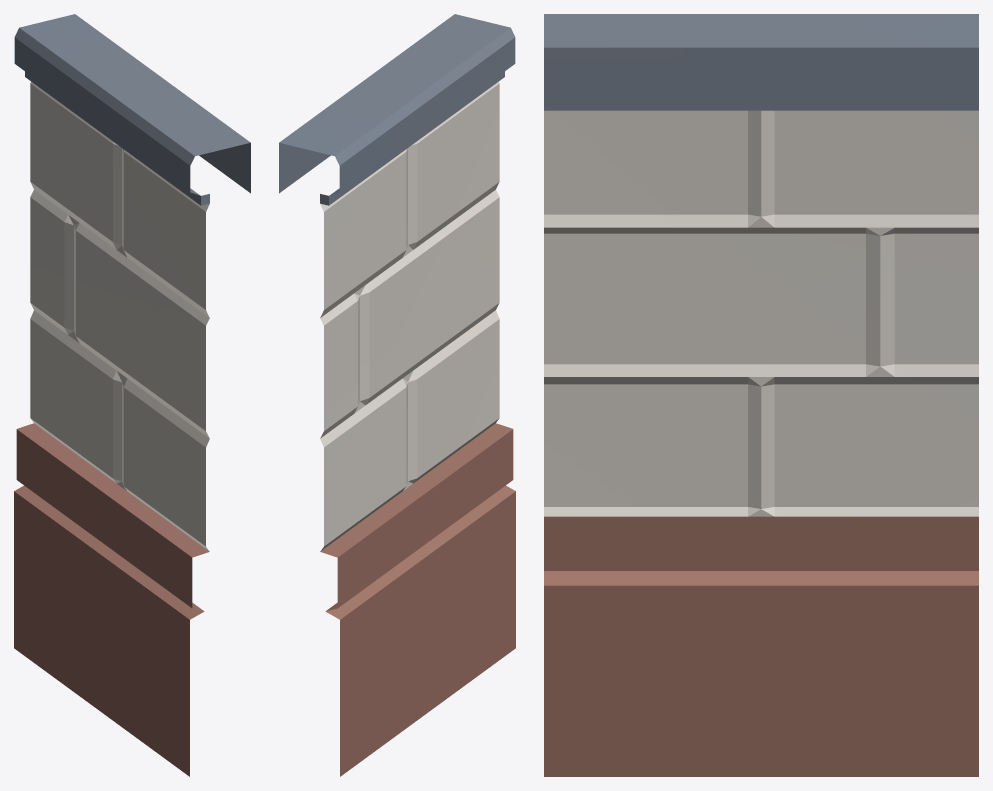
Rendered from g_t_OutsideWall.fbx.
3 views of the same model, side by side, from view 1: azimuth 30°, elevation 25°; view 2: azimuth 150°, elevation 25°; view 3: azimuth 270°, elevation 25° (orthographic). The views are drawn at different scales.
Visible parts, largest first — view 1: g_t_BathroomWall13; view 2: g_t_BathroomWall13; view 3: g_t_BathroomWall13.
Part boxes in pixels (x1,y1,x2,y2): g_t_BathroomWall13: [14, 14, 250, 776]; g_t_BathroomWall13: [279, 14, 515, 776]; g_t_BathroomWall13: [544, 14, 978, 776].
Size of the model in its own units: 20.06 by 194 by 100.
